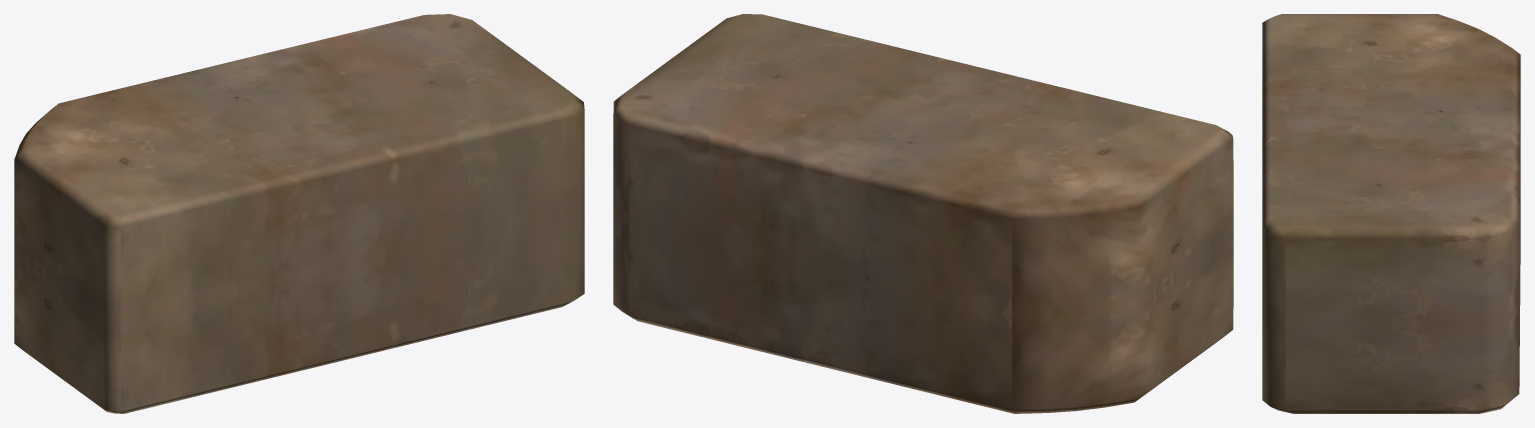
The picture shows the model from 3 angles, left to right: view 1: azimuth 30°, elevation 25°; view 2: azimuth 150°, elevation 25°; view 3: azimuth 270°, elevation 25°; orthographic projection. The views are drawn at different scales.
Visible parts, largest first — view 1: SM_DK_Path_Brick_01_V1_LOD0; view 2: SM_DK_Path_Brick_01_V1_LOD0; view 3: SM_DK_Path_Brick_01_V1_LOD0.
Part boxes in pixels (box(x1,y1,x2,y2)): SM_DK_Path_Brick_01_V1_LOD0: box(14, 14, 584, 413); SM_DK_Path_Brick_01_V1_LOD0: box(613, 14, 1233, 413); SM_DK_Path_Brick_01_V1_LOD0: box(1262, 14, 1520, 413).
Bounding box in the file's own units: 1.33 × 0.5208 × 0.6567.
1 material, 1 textured.
